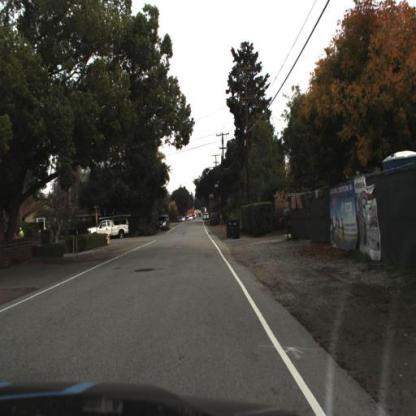car: (89, 220, 131, 243), (157, 215, 170, 234)
pedestrian: (18, 226, 25, 244)
